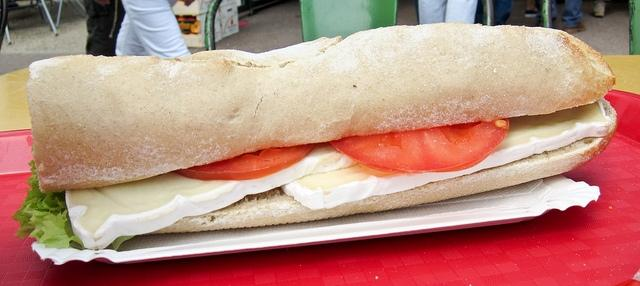lettuce: (12, 142, 136, 250)
tomato: (329, 118, 510, 175), (172, 143, 316, 180)
